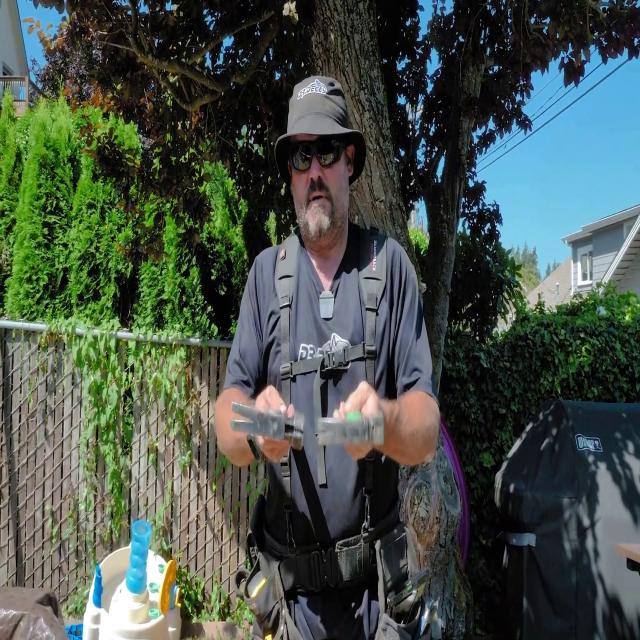hammer: (230, 402, 304, 449), (317, 410, 383, 446)
